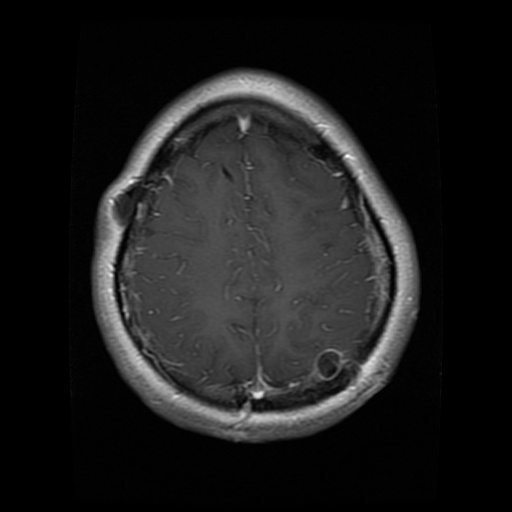glioma: (310, 346, 347, 381)
